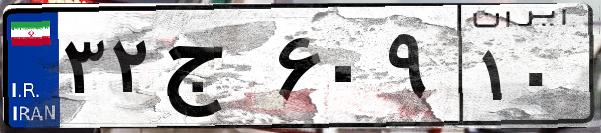0: (330, 28, 385, 110), (525, 38, 570, 115)
1: (475, 38, 525, 113)
2: (110, 28, 158, 98)
3: (57, 26, 110, 100)
6: (270, 28, 330, 110)
9: (385, 28, 445, 110)
ج: (158, 20, 270, 120)
